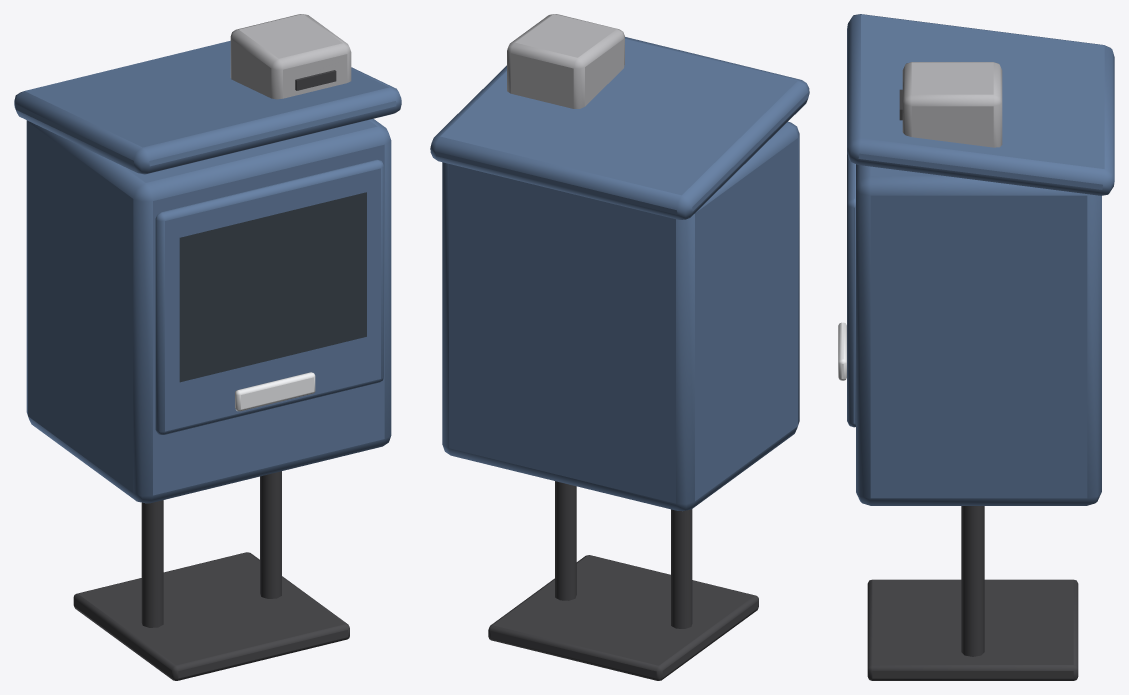
The model's file is newspaper_box_b.glb.
3 views of the same model, side by side, from view 1: azimuth 30°, elevation 25°; view 2: azimuth 150°, elevation 25°; view 3: azimuth 270°, elevation 25° (orthographic). The views are drawn at different scales.
Visible parts, largest first — view 1: newspaper_box_b; view 2: newspaper_box_b; view 3: newspaper_box_b.
Part boxes in pixels (x1=…): newspaper_box_b: x1=14, y1=14, x2=401, y2=680; newspaper_box_b: x1=430, y1=14, x2=809, y2=680; newspaper_box_b: x1=838, y1=14, x2=1114, y2=680.
Bounding box in the file's own units: 0.54 × 1.12 × 0.4719.
